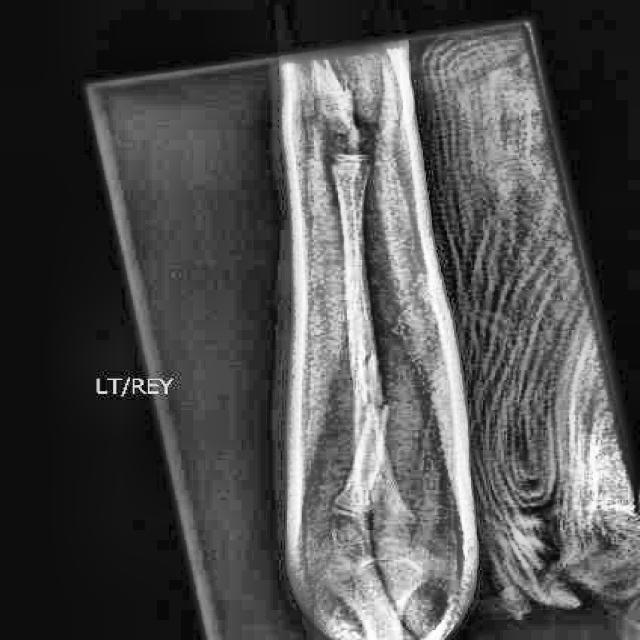forearm fracture: (335, 382, 410, 449)
